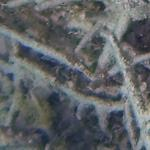dead: (4, 3, 145, 147)
